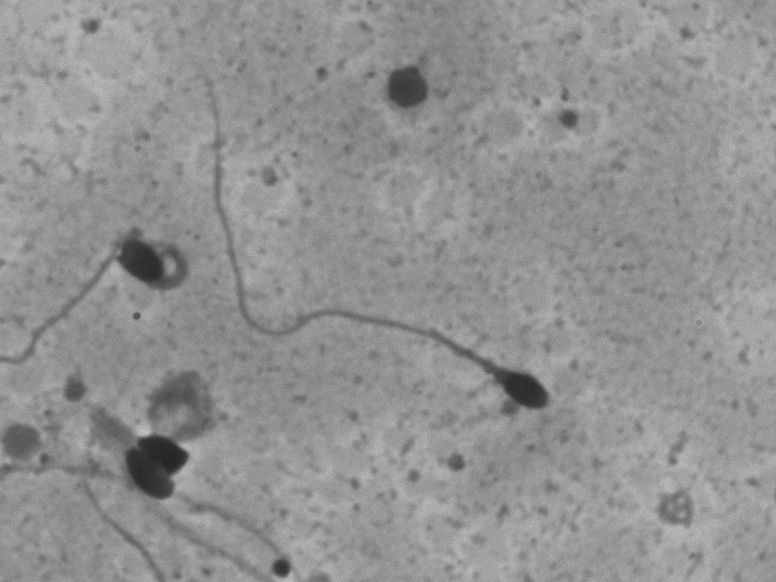Abnormal: (45, 190, 201, 346)
Normal: (204, 71, 610, 430)
